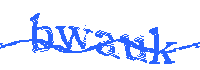a: (95, 29, 117, 61)
b: (29, 11, 54, 56)
k: (150, 27, 174, 68)
u: (121, 33, 149, 64)
w: (54, 23, 90, 52)
